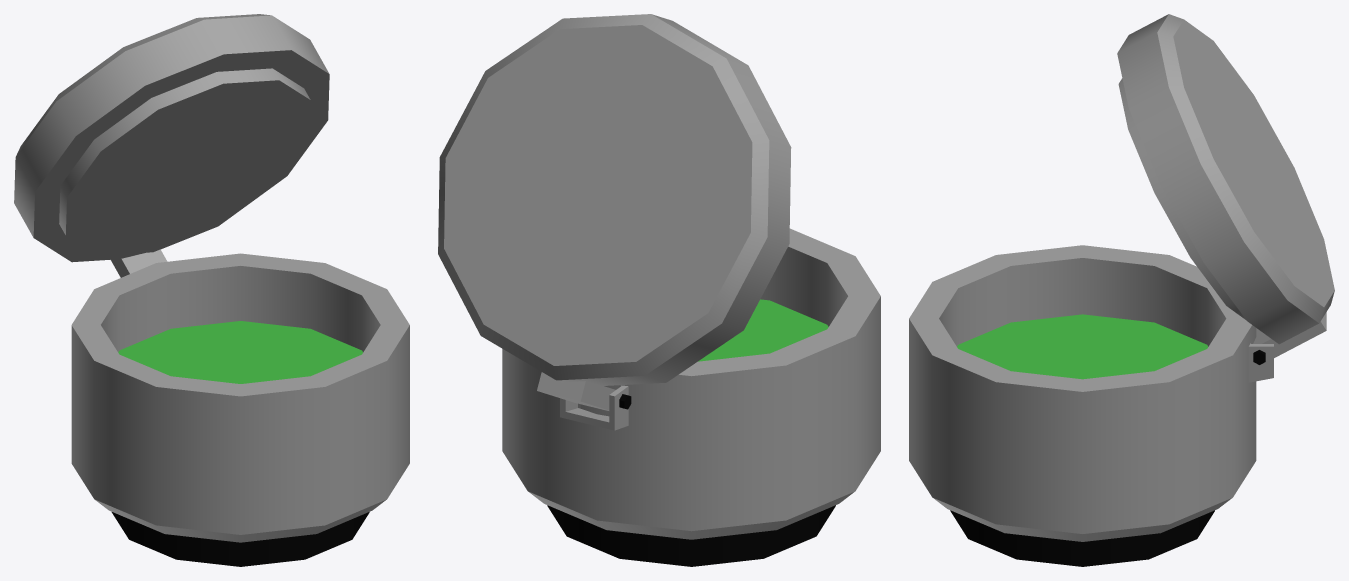
The model's file is Tank4_Open.fbx.
3 renders of one model, left to right at view 1: azimuth 30°, elevation 25°; view 2: azimuth 150°, elevation 25°; view 3: azimuth 270°, elevation 25°, orthographic. The views are drawn at different scales.
Parts seen in each view (by area): view 1: pCylinder16; view 2: pCylinder16; view 3: pCylinder16.
Part boxes in pixels (x1,y1,x2,y2): pCylinder16: (14,14,409,566); pCylinder16: (438,14,880,566); pCylinder16: (909,14,1334,566).
Size of the model in its own units: 120 by 147 by 182.
